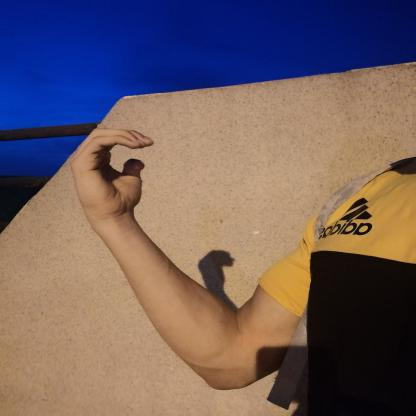JEEM: (59, 118, 162, 226)
